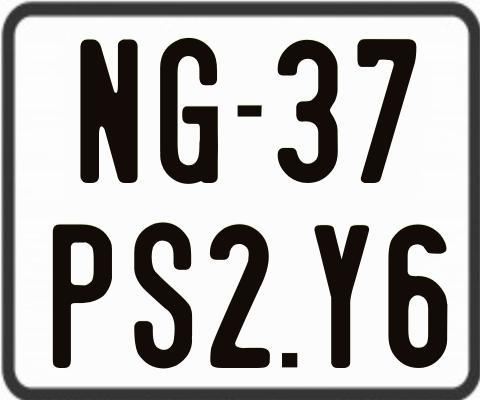2: (210, 221, 274, 366)
3: (278, 39, 342, 184)
6: (385, 224, 444, 369)
7: (354, 36, 414, 181)
G: (157, 36, 217, 182)
N: (77, 36, 141, 181)
P: (51, 221, 115, 369)
S: (133, 222, 193, 373)
Y: (315, 222, 370, 366)
